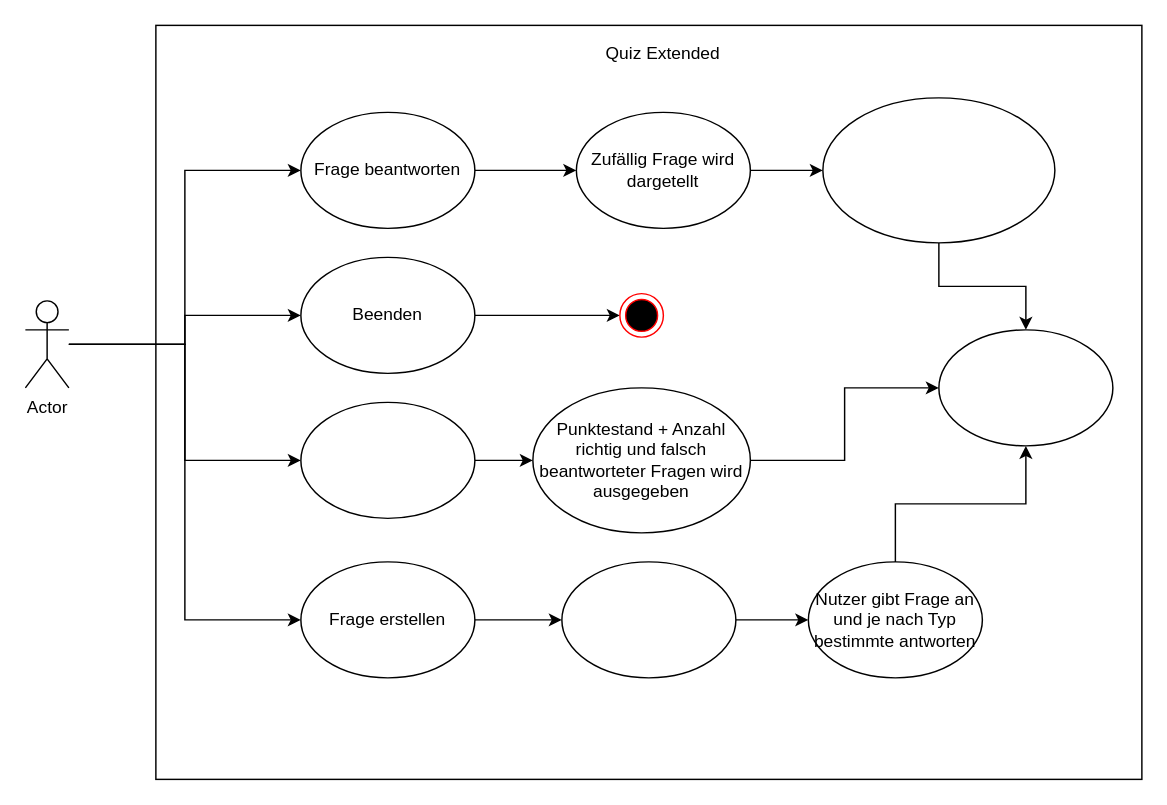
Image size: 1167x805. Some labels were removed from this diagram. Each missing label, with the centre of its shape:
"Nutzer antwortet und richtig oder falsch wird ausgegeben/ gespeichert" goes at (938,169).
"Nutzer wählt Fragentyp aus" goes at (648,619).
"Punktestand + Statistik ausgeben" goes at (387,459).
"Zurück zum Menü" goes at (1025,387).
